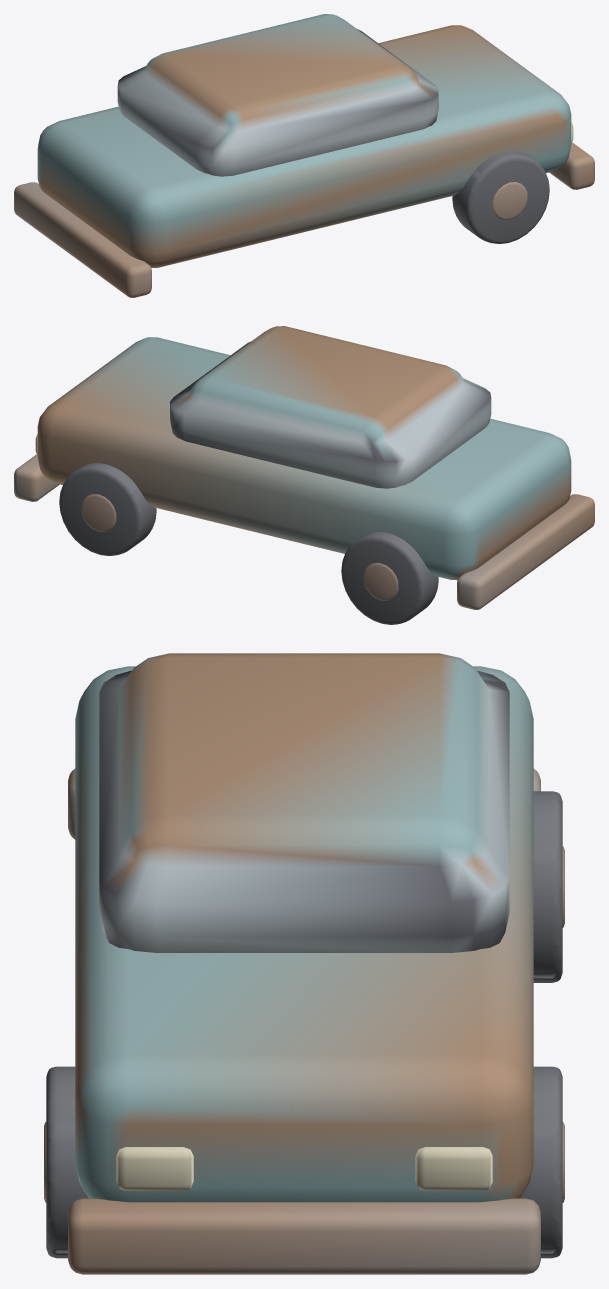
Rendered from Car_Wreck.fbx.
The picture shows the model from 3 angles, top to bottom: view 1: azimuth 30°, elevation 25°; view 2: azimuth 150°, elevation 25°; view 3: azimuth 270°, elevation 25°; orthographic projection. The views are drawn at different scales.
Parts seen in each view (by area): view 1: Car_Wreck; view 2: Car_Wreck; view 3: Car_Wreck.
Part boxes in pixels (x1,y1,x2,y2): Car_Wreck: (14, 14, 594, 297); Car_Wreck: (14, 326, 594, 624); Car_Wreck: (44, 653, 564, 1274).
Size of the model in its own units: 4.48 by 1.62 by 2.16.
